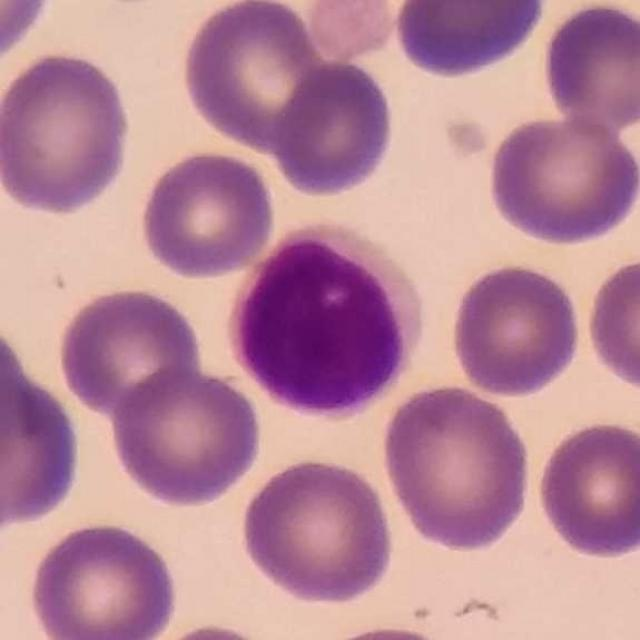Lymphocyte: (222, 221, 428, 423)
Platelets: (437, 106, 492, 164)
RBC: (378, 380, 536, 556), (237, 454, 397, 608), (177, 0, 330, 152), (0, 47, 136, 218), (106, 365, 265, 510), (483, 110, 640, 248), (53, 282, 206, 418), (446, 258, 586, 400), (27, 516, 181, 640), (267, 57, 400, 200), (137, 146, 278, 280), (532, 415, 640, 563), (0, 362, 86, 532), (537, 0, 640, 132), (389, 0, 552, 82), (582, 250, 640, 398), (286, 0, 405, 67), (0, 316, 29, 475), (0, 0, 59, 69), (306, 620, 465, 640), (138, 619, 289, 640)
